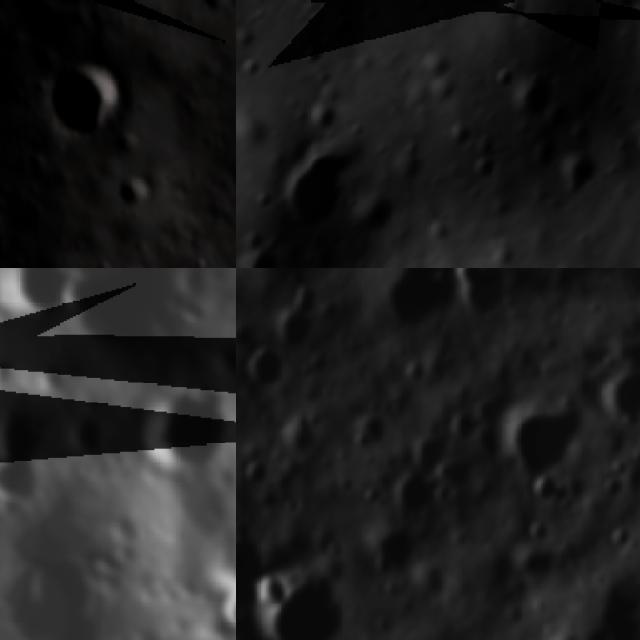crater: (31, 44, 140, 156), (134, 376, 234, 479), (22, 545, 114, 625), (275, 149, 359, 230), (251, 570, 345, 640), (506, 405, 582, 476), (369, 268, 453, 331), (0, 268, 76, 327), (447, 268, 513, 323), (0, 452, 48, 520), (107, 167, 168, 220), (276, 285, 322, 354), (506, 74, 562, 123), (557, 150, 606, 203), (364, 528, 418, 576), (0, 401, 42, 458), (354, 188, 398, 240), (404, 432, 448, 470), (245, 348, 287, 384), (611, 372, 640, 423), (395, 478, 440, 510), (276, 416, 318, 450), (306, 96, 339, 136), (236, 245, 293, 268), (239, 457, 270, 490), (354, 413, 383, 448), (354, 481, 384, 514), (219, 581, 236, 638), (252, 268, 321, 282), (454, 407, 477, 443), (253, 488, 281, 510), (526, 520, 552, 541), (607, 456, 630, 479), (595, 352, 617, 375), (600, 481, 626, 500), (612, 527, 633, 549), (404, 358, 422, 383), (586, 300, 603, 322)
